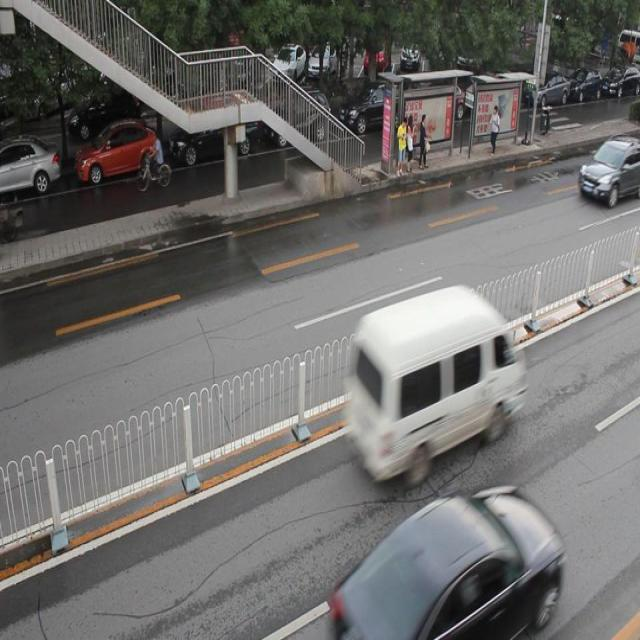car: (330, 486, 562, 640), (169, 104, 257, 168), (76, 119, 158, 187), (578, 136, 640, 208), (338, 80, 410, 136), (264, 89, 330, 146), (1, 137, 60, 200)
truck: (346, 287, 522, 479)
